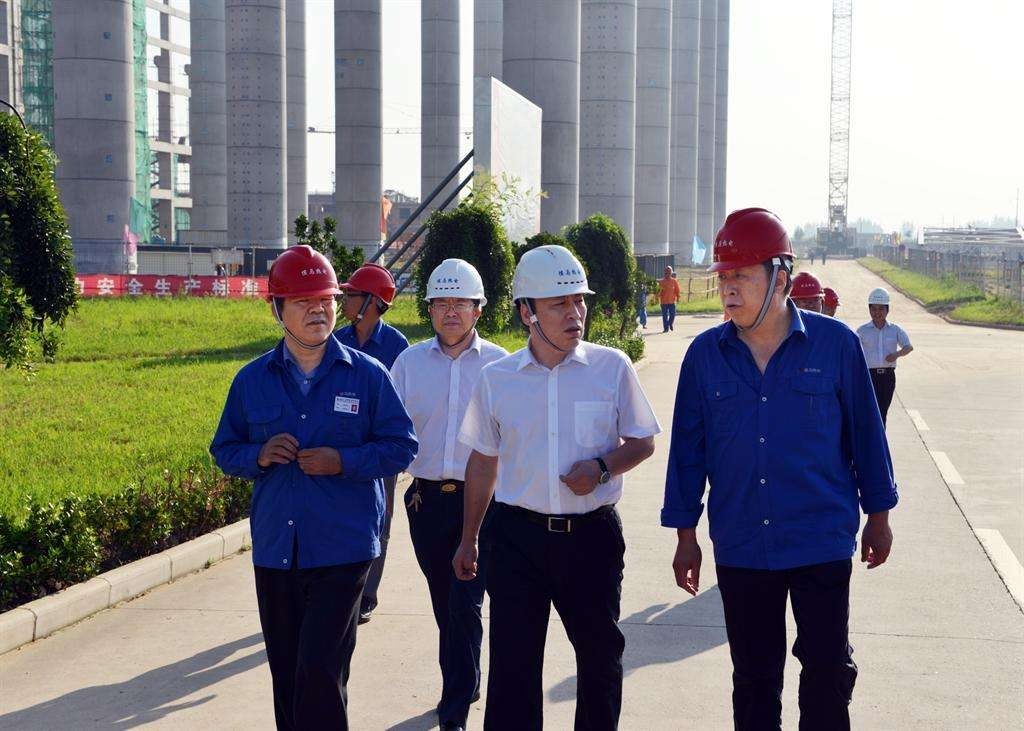red: (710, 202, 792, 330), (262, 241, 343, 350), (337, 258, 396, 330), (787, 271, 827, 317)
white: (508, 237, 594, 359), (417, 253, 490, 350), (862, 283, 894, 326)
